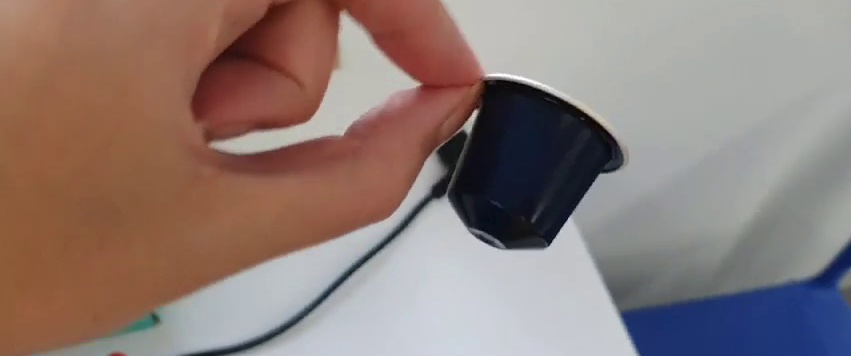capsule_1: (453, 73, 629, 253)
